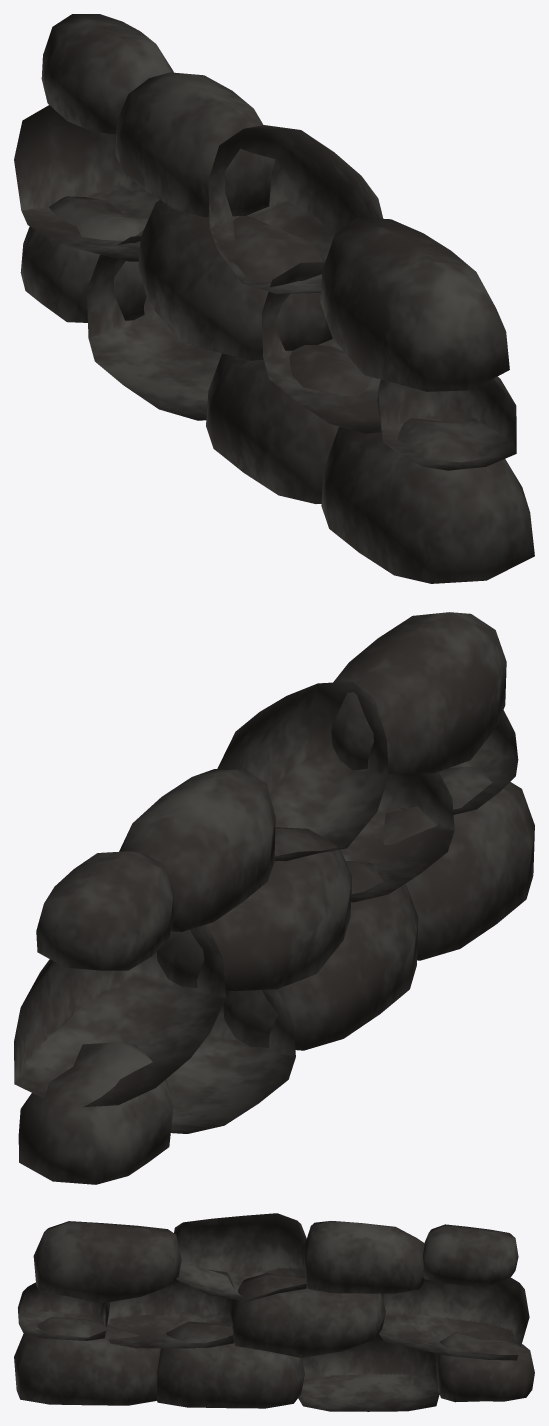
File: rockWall01.glb
3 renders of one model, top to bottom at view 1: azimuth 30°, elevation 25°; view 2: azimuth 150°, elevation 25°; view 3: azimuth 270°, elevation 25°, orthographic. The views are drawn at different scales.
Visible parts, largest first — view 1: Cube.001; view 2: Cube.001; view 3: Cube.001.
Part boxes in pixels (left/top/right/bottom): Cube.001: left=14, top=14, right=534, bottom=583; Cube.001: left=14, top=612, right=534, bottom=1184; Cube.001: left=14, top=1213, right=534, bottom=1411.
Size of the model in its own units: 2.31 by 4.89 by 12.59.
1 material, 1 textured.
